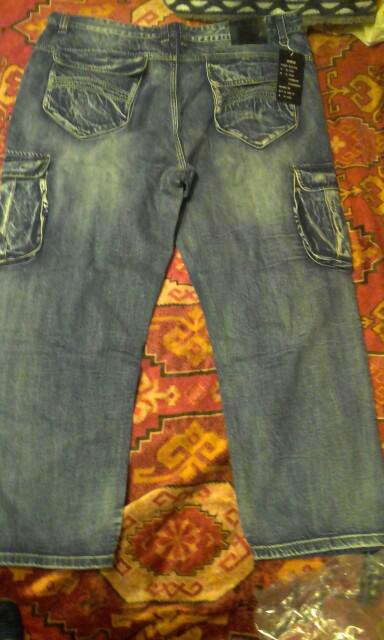jeans: (6, 20, 384, 556)
